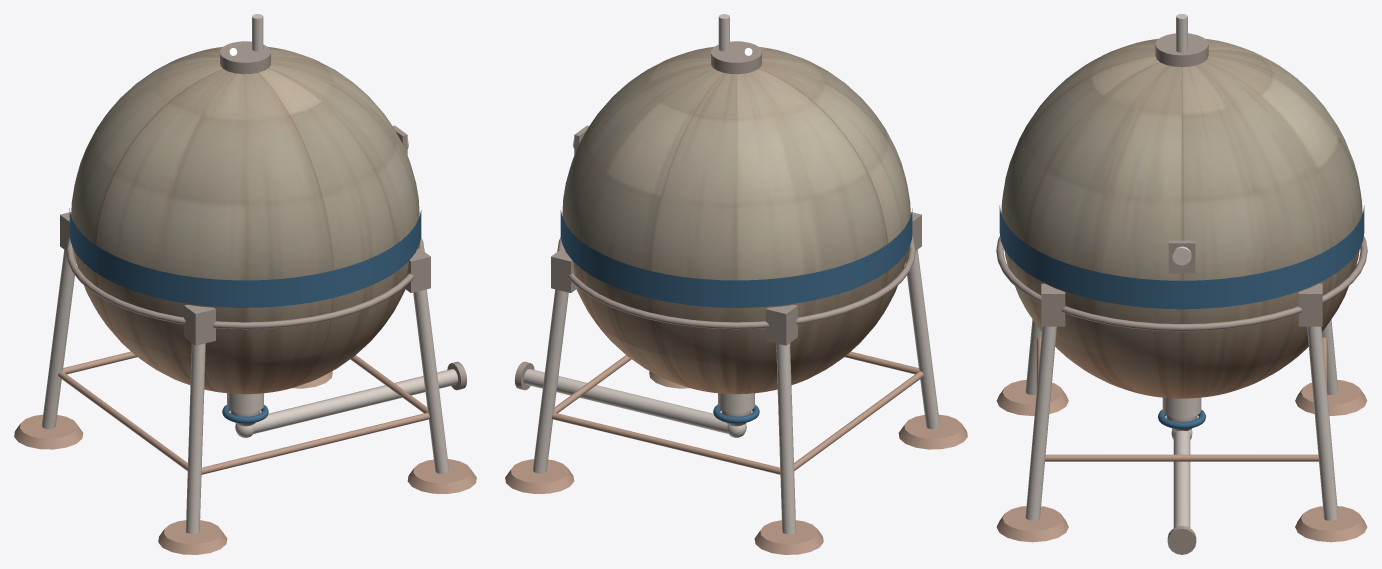
Rendered from E08_sphere_tank_water.glb.
The picture shows the model from 3 angles, left to right: view 1: azimuth 30°, elevation 25°; view 2: azimuth 150°, elevation 25°; view 3: azimuth 270°, elevation 25°; orthographic projection. The views are drawn at different scales.
Visible parts, largest first — view 1: tank, leg, equator_band, footpad, leg_ring; view 2: tank, leg, equator_band, footpad, leg_ring; view 3: tank, equator_band, leg, footpad, leg_ring.
Boxes of the visible parts, bbox=[...] form: tank: bbox=[71, 47, 419, 394]; leg: bbox=[41, 14, 458, 533]; equator_band: bbox=[69, 138, 421, 423]; footpad: bbox=[14, 351, 476, 554]; leg_ring: bbox=[60, 41, 467, 426]; tank: bbox=[562, 47, 910, 394]; leg: bbox=[523, 14, 940, 533]; equator_band: bbox=[560, 138, 912, 423]; footpad: bbox=[505, 351, 967, 554]; leg_ring: bbox=[514, 41, 921, 426]; tank: bbox=[1001, 38, 1362, 398]; equator_band: bbox=[999, 205, 1364, 428]; leg: bbox=[1025, 14, 1338, 527]; footpad: bbox=[996, 337, 1367, 542]; leg_ring: bbox=[996, 33, 1367, 554].
Bounding box in the file's own units: 3.67 × 4.15 × 3.08.
Materials: 6 (1 with a texture image).
